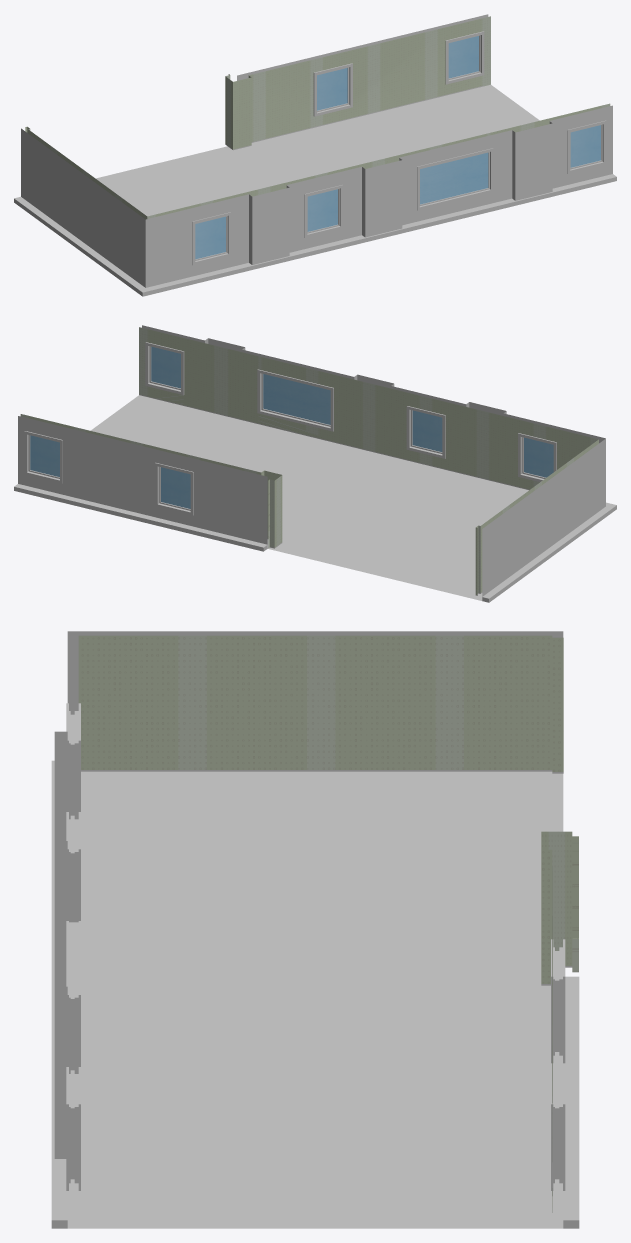
File: Floor_Last_C.fbx
The picture shows the model from 3 angles, top to bottom: view 1: azimuth 30°, elevation 25°; view 2: azimuth 150°, elevation 25°; view 3: azimuth 270°, elevation 25°; orthographic projection. The views are drawn at different scales.
Parts seen in each view (by area): view 1: Floor_Last_C; view 2: Floor_Last_C; view 3: Floor_Last_C.
Boxes of the visible parts, left/top/right/bottom form: Floor_Last_C: left=14, top=14, right=616, bottom=296; Floor_Last_C: left=14, top=325, right=616, bottom=602; Floor_Last_C: left=51, top=631, right=579, bottom=1228.
Size of the model in its own units: 2525 by 369 by 1224.
